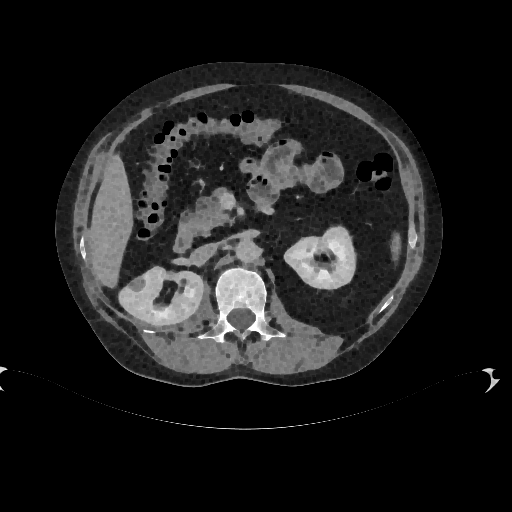Lesion: (126, 277, 146, 294)
